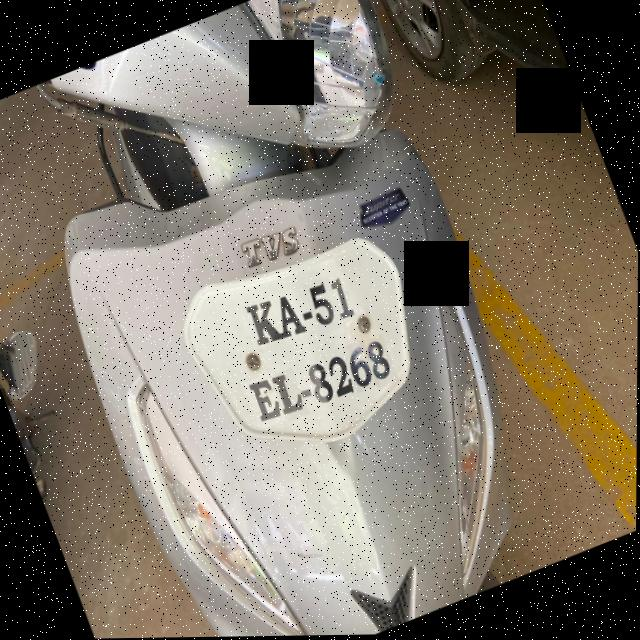1: (326, 270, 361, 325)
5: (303, 277, 347, 336)
6: (341, 340, 381, 395)
8: (302, 356, 342, 415), (360, 334, 401, 391)
A: (269, 288, 311, 346)
E: (244, 371, 294, 431)
K: (242, 297, 286, 354)
L: (272, 367, 310, 423)
